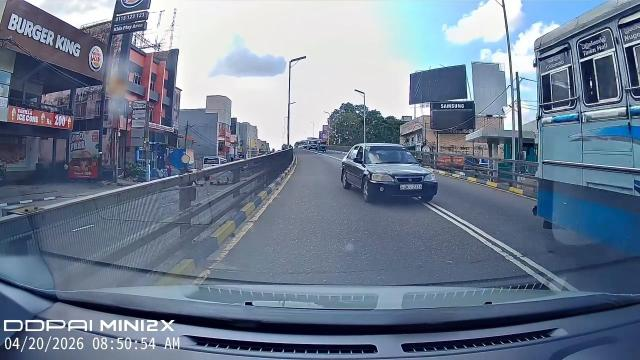illegal overtaking: (331, 134, 450, 218)
number plate: (397, 181, 428, 194)
